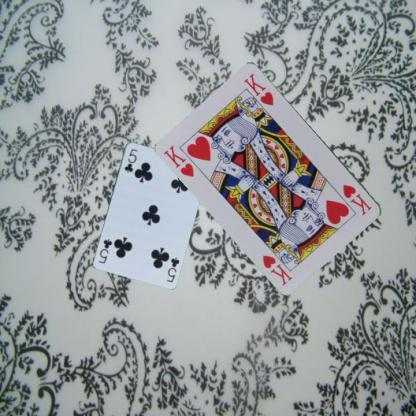5c: (122, 146, 139, 174), (164, 255, 180, 283)
Kh: (161, 142, 196, 179), (340, 182, 374, 216)
